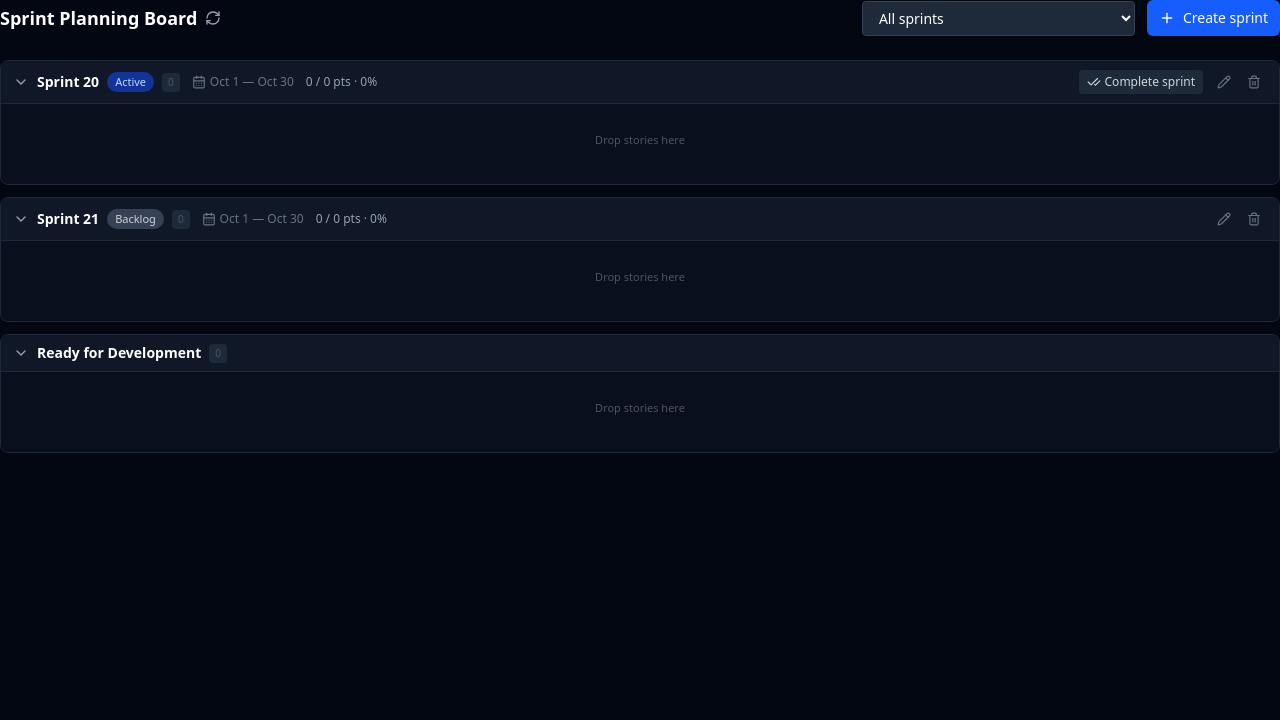
Scenario: SprintPlanningBoard — complete sprint and overdue label (FB-97) › keeps completion disabled while the task query is still pending (FB-251)
Step 1. Click the button "Complete sprint" → (1141, 82), box [1078,70,1203,94]
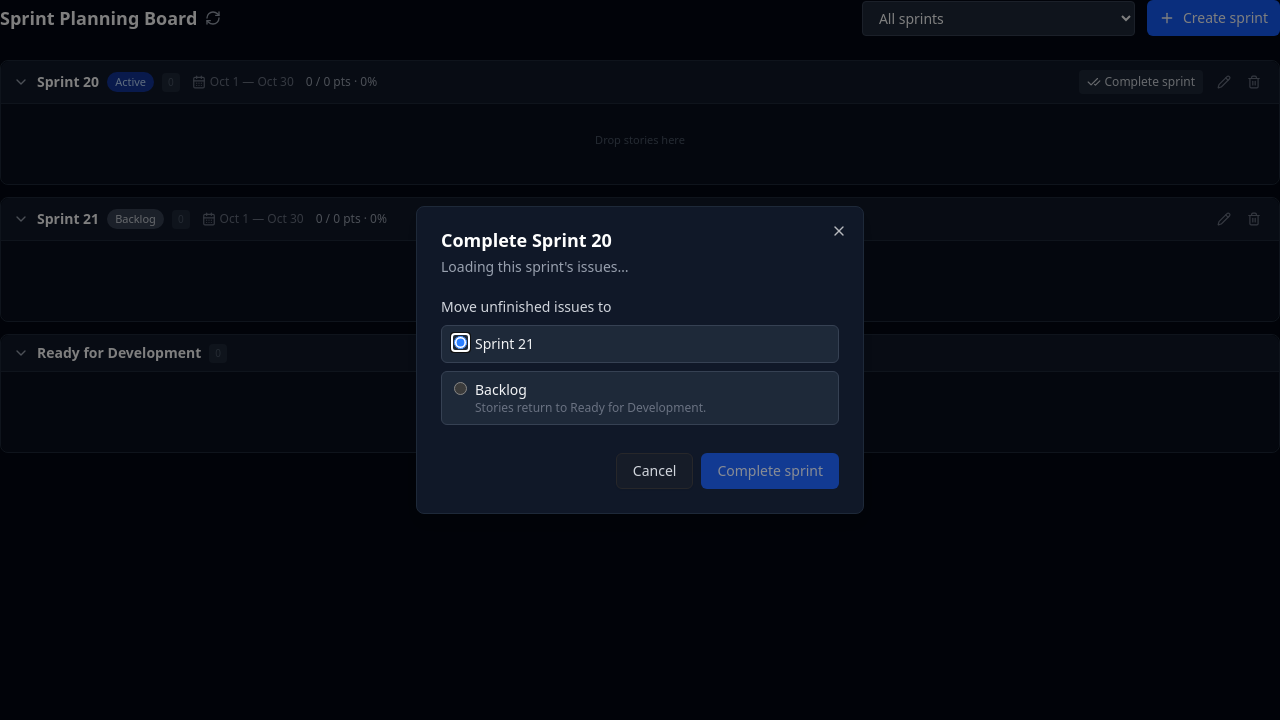
Expected: the dialog does not show "Every issue in this sprint is done", [416,206,864,514]
Expected: the dialog shows "Loading this sprint's issues…", [441,257,629,276]
Expected: the button "Complete sprint" is disabled, [702,453,839,489]
